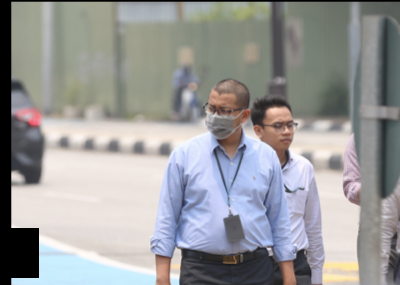with_mask: (205, 103, 241, 140)
without_mask: (263, 117, 295, 150)
